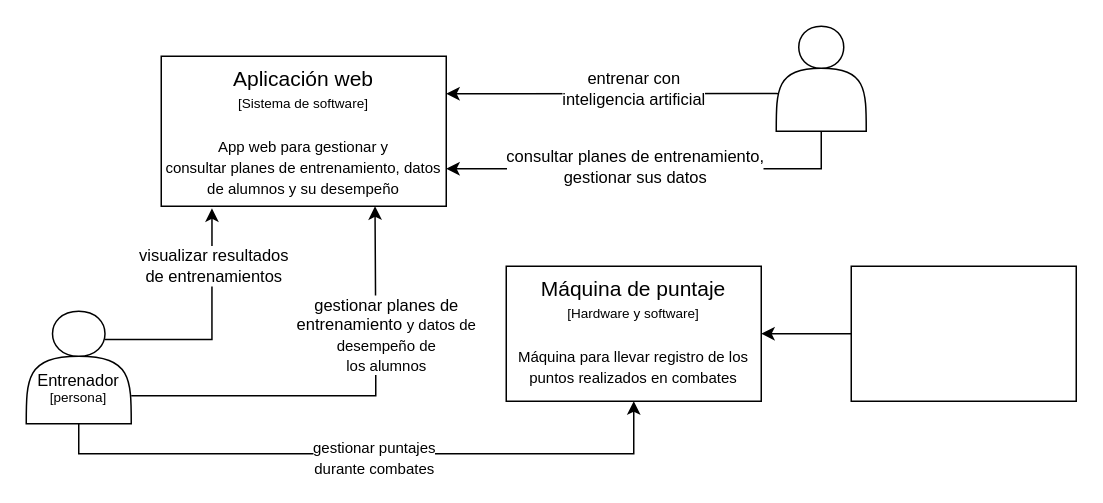
The diagram is 1103 pixels wide and 503 high, and some of its shapes have lost their labels. The shapes that lost their labels are listed below. From the top down, each one's centre as x and y in pixels, then its label:
[820,78]: Esgrimista [persona]
[963,333]: Máquina existente [Hardware y software] Máquina de esgrima St. Geroge 11
